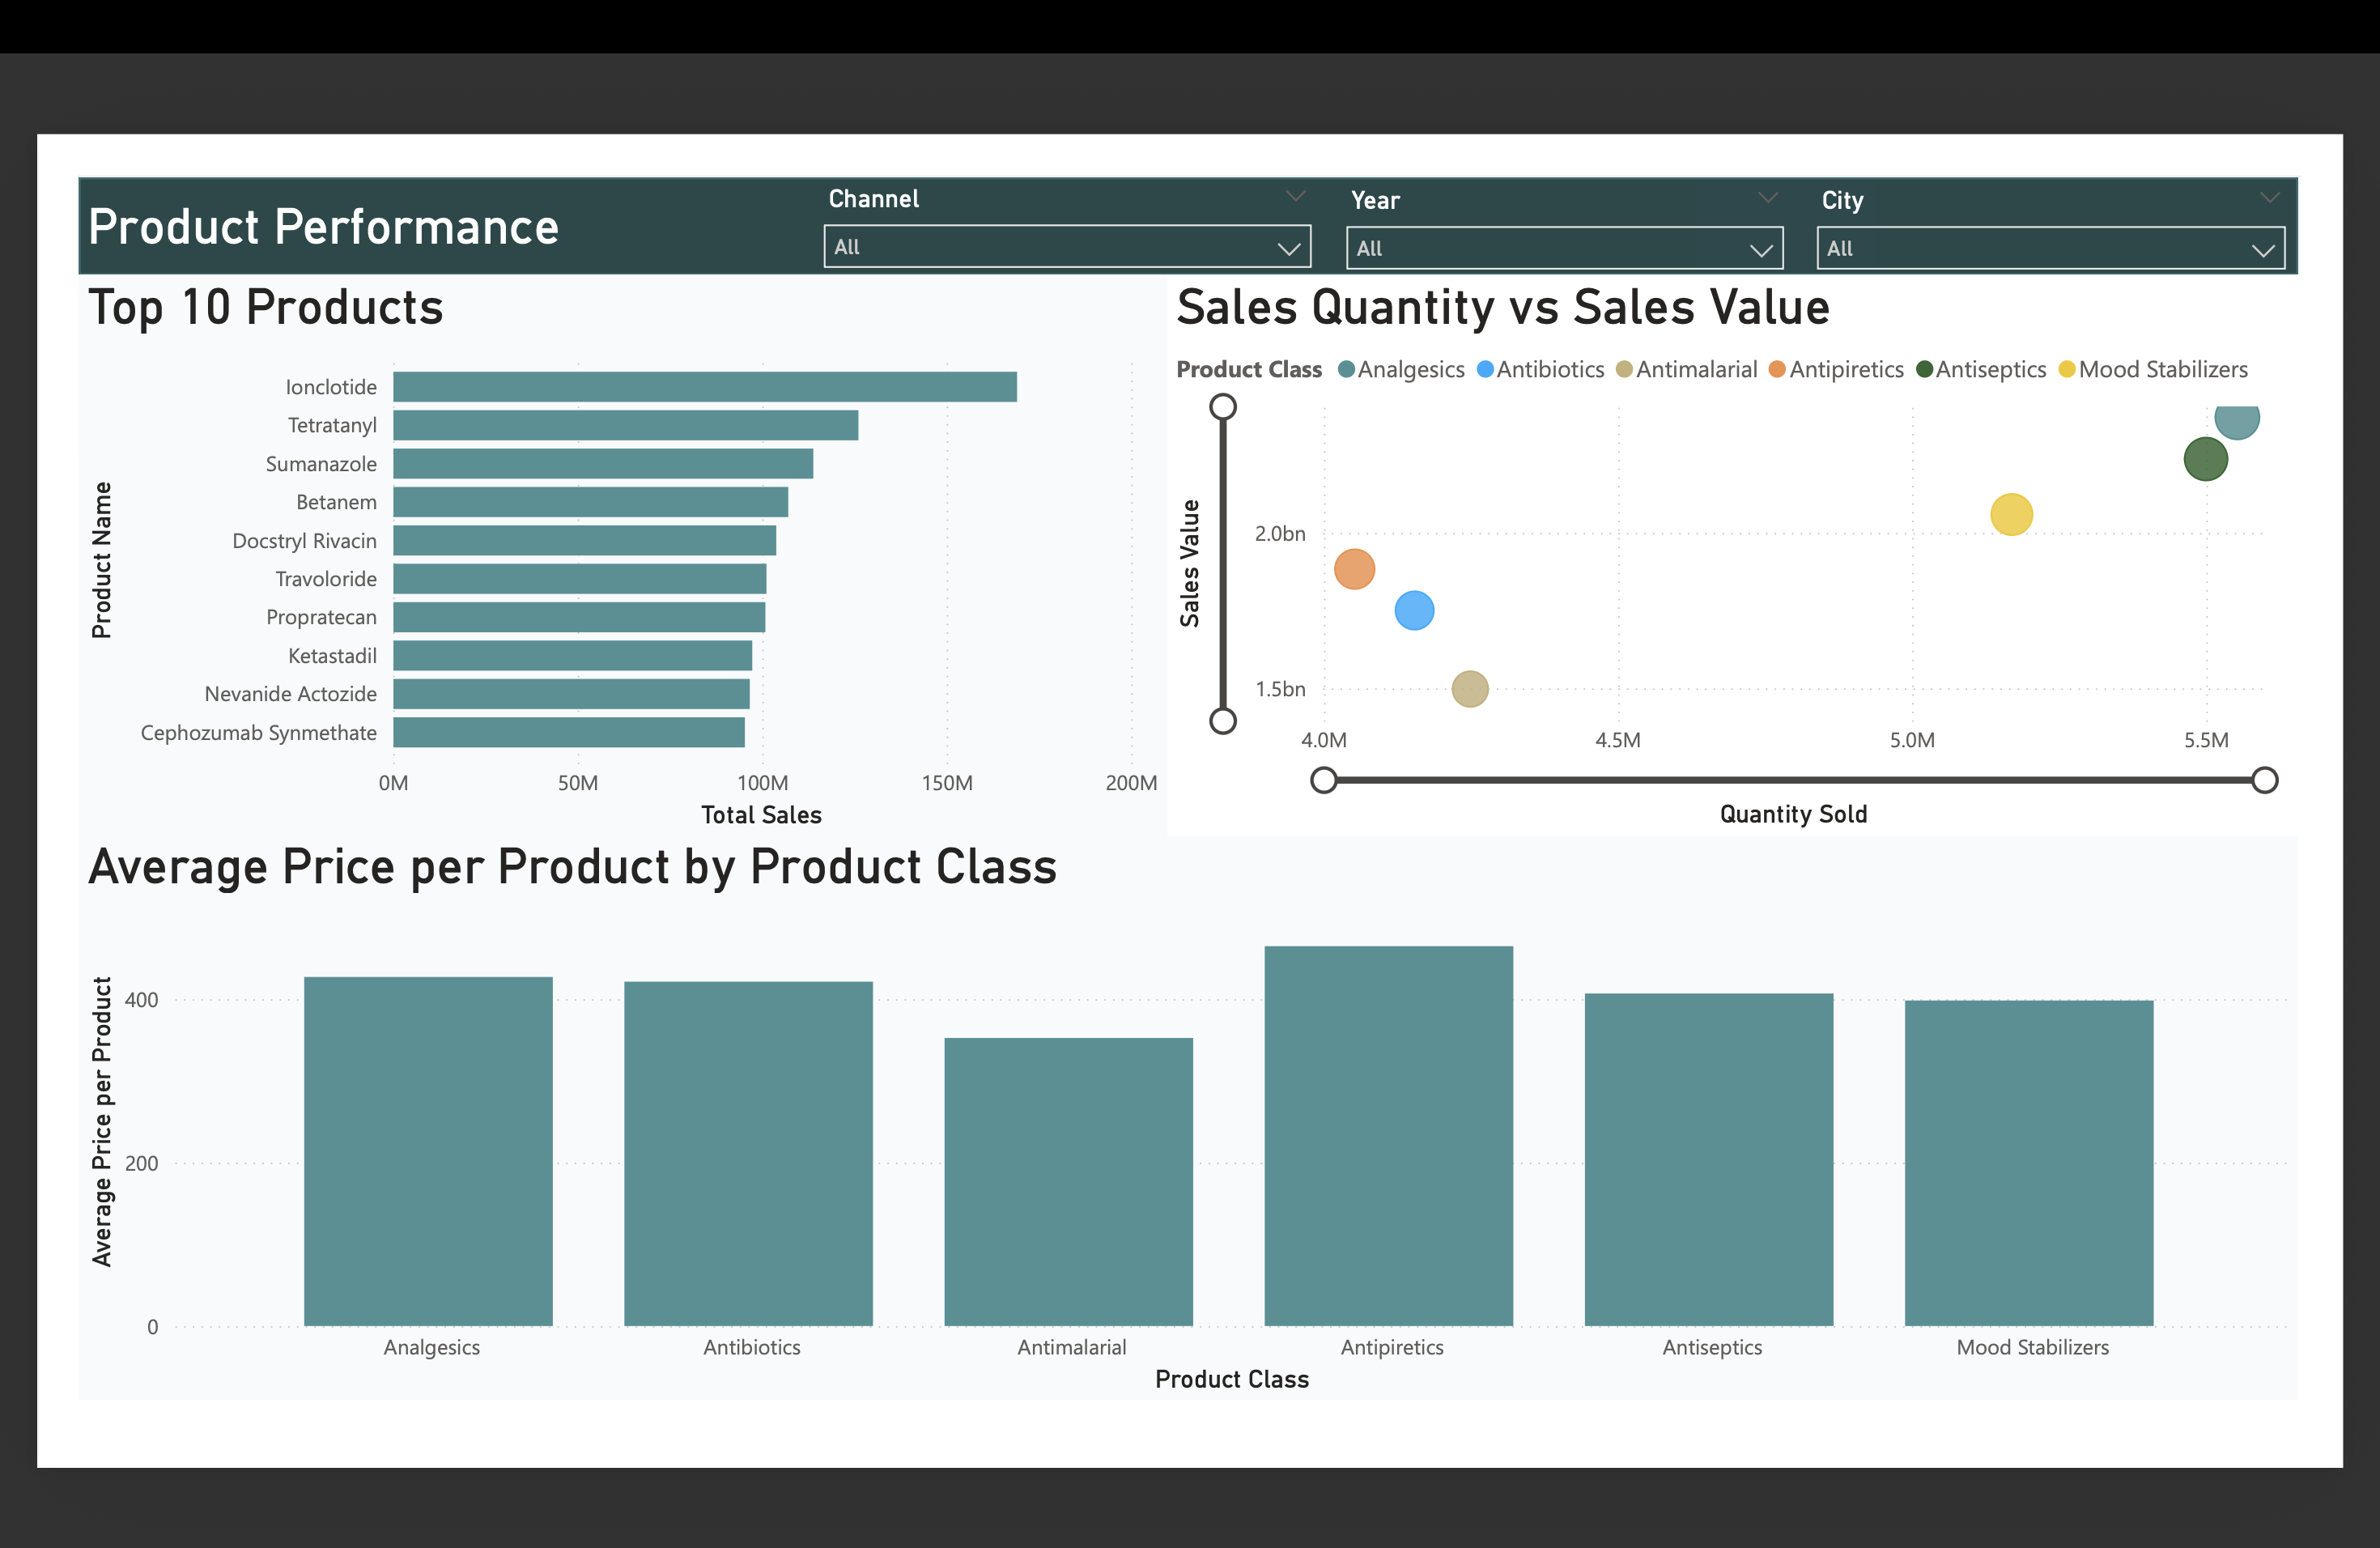

Layout of this report page (visuals, bound fields, positions):
{"tool":"powerbi","page":{"name":"Product Performance","canvas":[1280,720],"ordinal":1},"visuals":[{"type":"group","id":"g1","title":"Group 1","box":[0,0,1280.6,56.9],"z":0},{"type":"shape","box":[0,0.9,1278,56],"z":0,"group":"g1"},{"type":"slicer","fields":{"Values":["pharma-data-cdip-final-project - pharma-data-cdip-final-project.City"]},"box":[991.5,1.3,289.1,55],"z":1000,"group":"g1"},{"type":"barChart","title":"Top 10 Products","fields":{"Category":["pharma-data-cdip-final-project - pharma-data-cdip-final-project.Product Name"],"Y":["pharma-data-cdip-final-project - pharma-data-cdip-final-project.Total Sales"]},"box":[0,57.6,627.2,322.5],"z":1000},{"type":"slicer","fields":{"Values":["pharma-data-cdip-final-project - pharma-data-cdip-final-project.Channel"]},"box":[419,0,300.9,54.6],"z":2000,"group":"g1"},{"type":"clusteredColumnChart","fields":{"Y":["pharma-data-cdip-final-project - pharma-data-cdip-final-project.Average Price per Product"],"Category":["pharma-data-cdip-final-project - pharma-data-cdip-final-project.Product Class Hierarchy.Product Class","pharma-data-cdip-final-project - pharma-data-cdip-final-project.Product Class Hierarchy.Product Name"]},"box":[0,380.1,1277.6,325.2],"z":2000},{"type":"slicer","fields":{"Values":["pharma-data-cdip-final-project - pharma-data-cdip-final-project.Date.Variation.Date Hierarchy.Year"]},"box":[720.4,1,271.3,55.6],"z":3000,"group":"g1"},{"type":"scatterChart","title":"Sales Quantity vs Sales Value","fields":{"X":["pharma-data-cdip-final-project - pharma-data-cdip-final-project.Total Quantity"],"Y":["pharma-data-cdip-final-project - pharma-data-cdip-final-project.Total Sales"],"Series":["pharma-data-cdip-final-project - pharma-data-cdip-final-project.Product Class Hierarchy.Product Class"],"Category":["pharma-data-cdip-final-project - pharma-data-cdip-final-project.Product Class Hierarchy.Product Class","pharma-data-cdip-final-project - pharma-data-cdip-final-project.Product Class Hierarchy.Product Name"],"Size":["Sum(pharma-data-cdip-final-project - pharma-data-cdip-final-project.Sales)"]},"box":[627,58,651,322],"z":3000},{"type":"textbox","box":[0,6.9,418.6,43.9],"z":4000,"group":"g1"}]}

Visuals, with their boxes on the page's 1280x720 design canvas (x1, y1, x2, y2). These are canvas units, not pixel positions in the 2380x1548 screenshot, which may show the page scaled, cropped or inside an application window:
"Group 1" group: pyautogui.locateOnScreen(0, 0, 1281, 57)
shape: pyautogui.locateOnScreen(0, 1, 1278, 57)
slicer - pharma-data-cdip-final-project - pharma-data-cdip-final-project.City: pyautogui.locateOnScreen(992, 1, 1281, 56)
"Top 10 Products" barChart: pyautogui.locateOnScreen(0, 58, 627, 380)
slicer - pharma-data-cdip-final-project - pharma-data-cdip-final-project.Channel: pyautogui.locateOnScreen(419, 0, 720, 55)
clusteredColumnChart - pharma-data-cdip-final-project - pharma-data-cdip-final-project.Average Price per Product x pharma-data-cdip-final-project - pharma-data-cdip-final-project.Product Class Hierarchy.Product Class: pyautogui.locateOnScreen(0, 380, 1278, 705)
slicer - pharma-data-cdip-final-project - pharma-data-cdip-final-project.Date.Variation.Date Hierarchy.Year: pyautogui.locateOnScreen(720, 1, 992, 57)
"Sales Quantity vs Sales Value" scatterChart: pyautogui.locateOnScreen(627, 58, 1278, 380)
textbox: pyautogui.locateOnScreen(0, 7, 419, 51)
